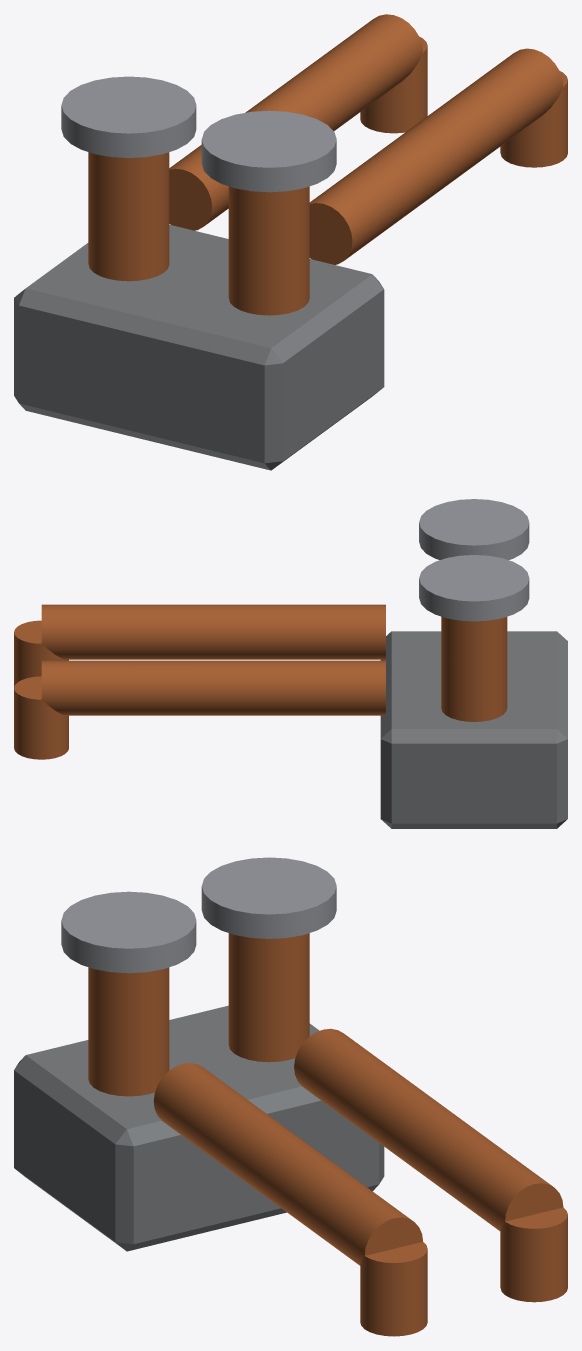
File: er5_emergency_coolant.obj
The picture shows the model from 3 angles, top to bottom: view 1: azimuth 30°, elevation 25°; view 2: azimuth 150°, elevation 25°; view 3: azimuth 270°, elevation 25°; orthographic projection. The views are drawn at different scales.
Parts seen in each view (by area): view 1: er5_emergency_coolant; view 2: er5_emergency_coolant; view 3: er5_emergency_coolant.
Boxes of the visible parts, bbox=[...] form: er5_emergency_coolant: bbox=[14, 14, 567, 470]; er5_emergency_coolant: bbox=[14, 499, 567, 828]; er5_emergency_coolant: bbox=[14, 857, 567, 1336].
Size of the model in its own units: 1.04 by 0.46 by 0.8206.
